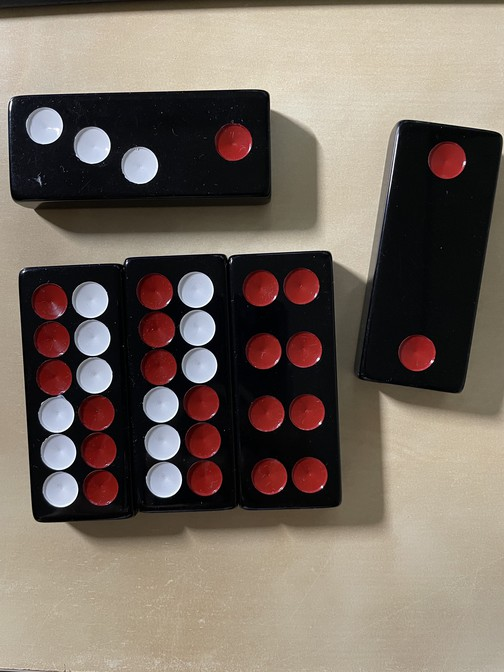earth: (358, 120, 504, 395)
goose: (6, 90, 271, 207)
heaven: (20, 267, 133, 521), (125, 257, 232, 516)
man: (231, 252, 345, 509)
